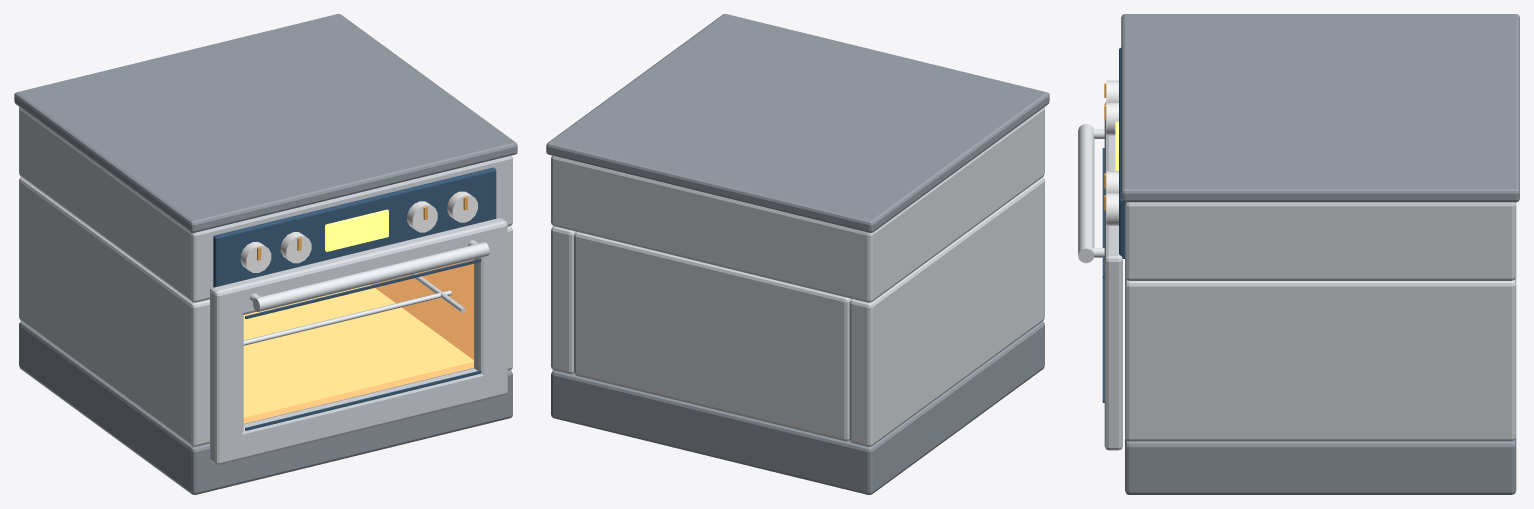
The model's file is oven.glb.
3 views of the same model, side by side, from view 1: azimuth 30°, elevation 25°; view 2: azimuth 150°, elevation 25°; view 3: azimuth 270°, elevation 25° (orthographic). The views are drawn at different scales.
Visible parts, largest first — view 1: Body, DoorMesh; view 2: Body; view 3: Body, DoorMesh.
Boxes of the visible parts, x1,y1,x2,y2 form: Body: (14,14,517,494); DoorMesh: (210,218,507,464); Body: (546,14,1049,494); Body: (1104,14,1519,494); DoorMesh: (1078,102,1122,450).
Bounding box in the file's own units: 1.14 × 0.92 × 1.2.
